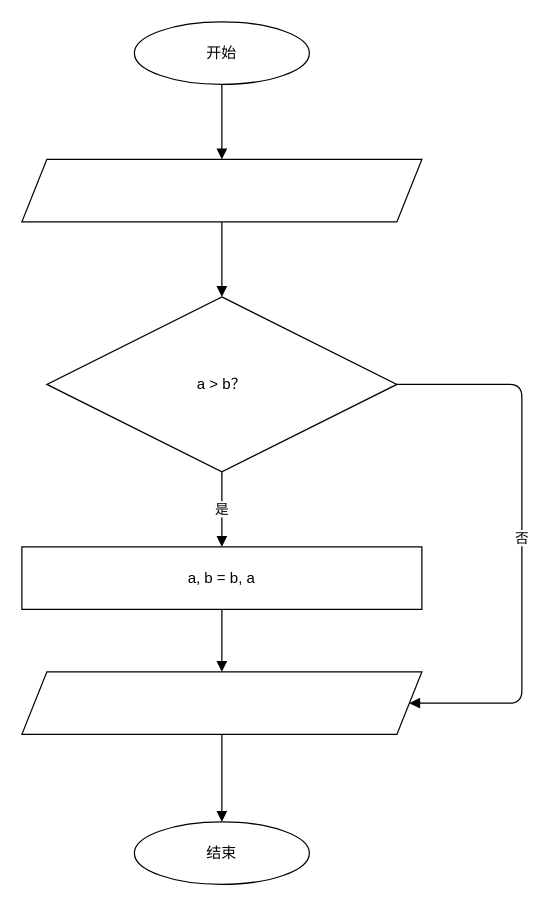
This 554x906 diagram has some shape labels left out. The box of each missing label's shape, as (x1, y1, x2, y2) in pixels:
升序输出 a、b: (21, 671, 422, 734)
输入整数 a、b: (21, 158, 422, 222)
